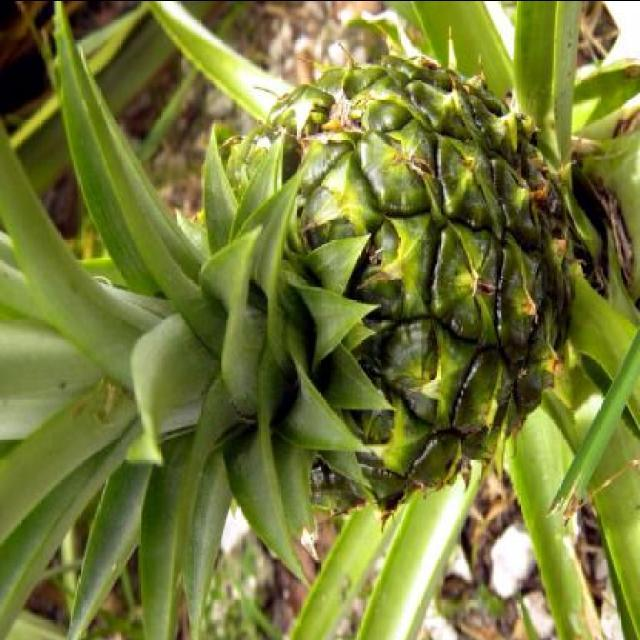Pineapple: (0, 2, 592, 640)
